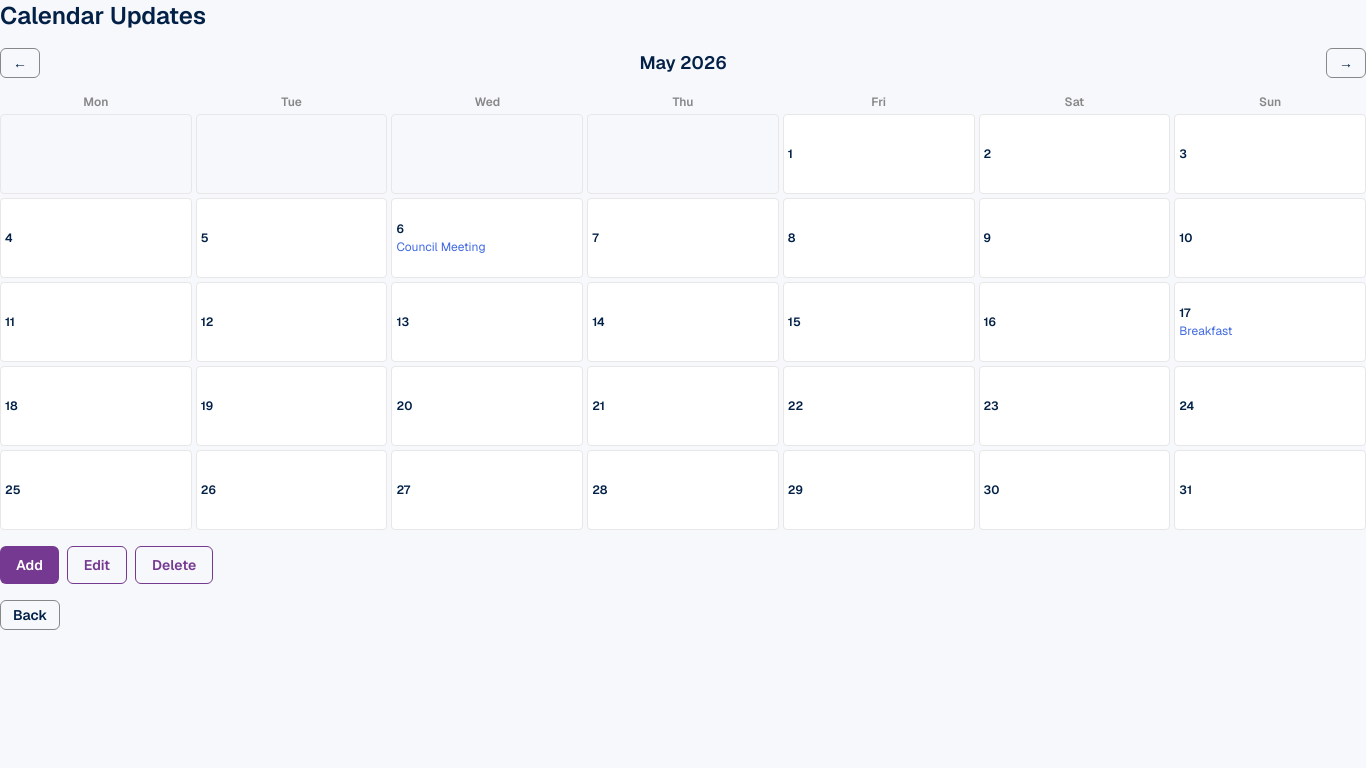
Test case: CalendarUpdates › uses fallback message when error has no message
The width and height of the screenshot is (1366, 768).
Check: the text "Council Meeting" is shown, box 396,239 -> 486,255
Click the button named "Select day 12": [292, 322] box 196,282 -> 387,362
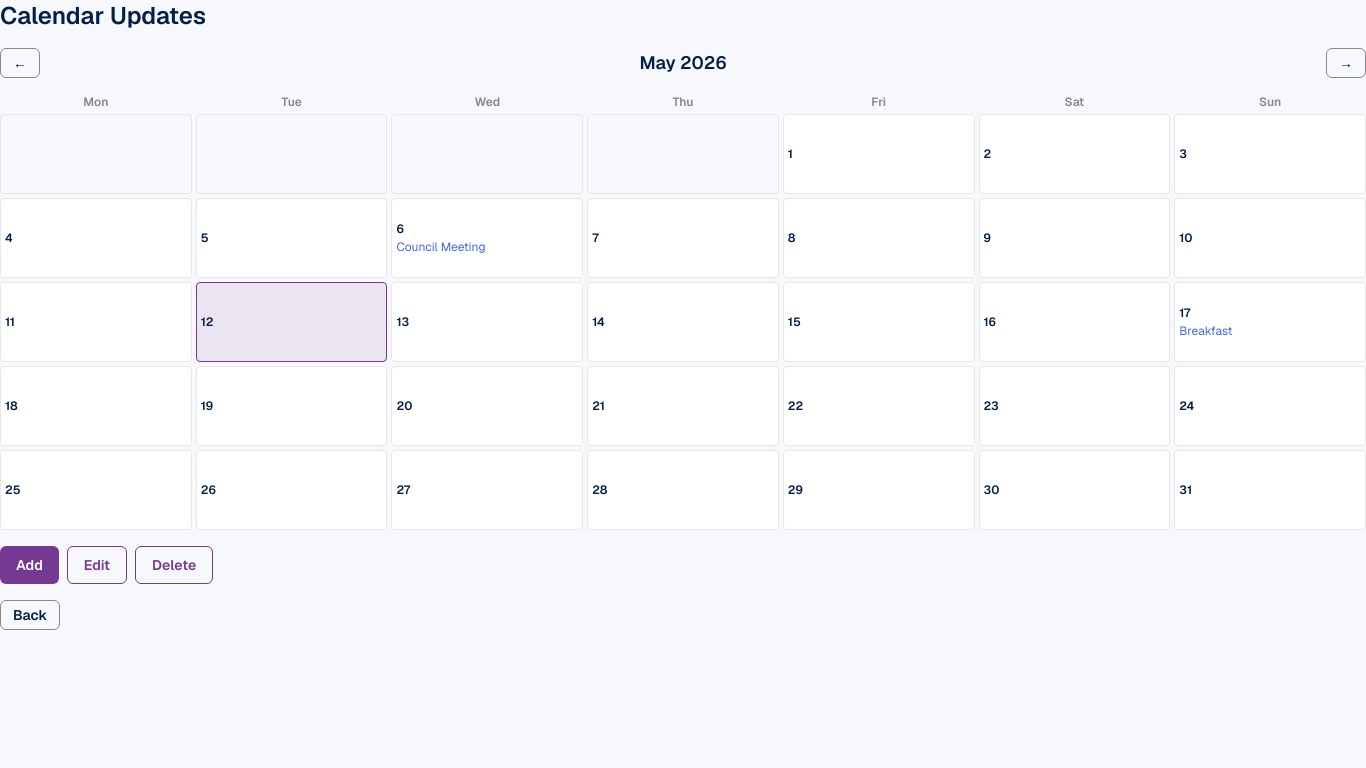
Click the button "Add": [29, 565] box 0,546 -> 59,584
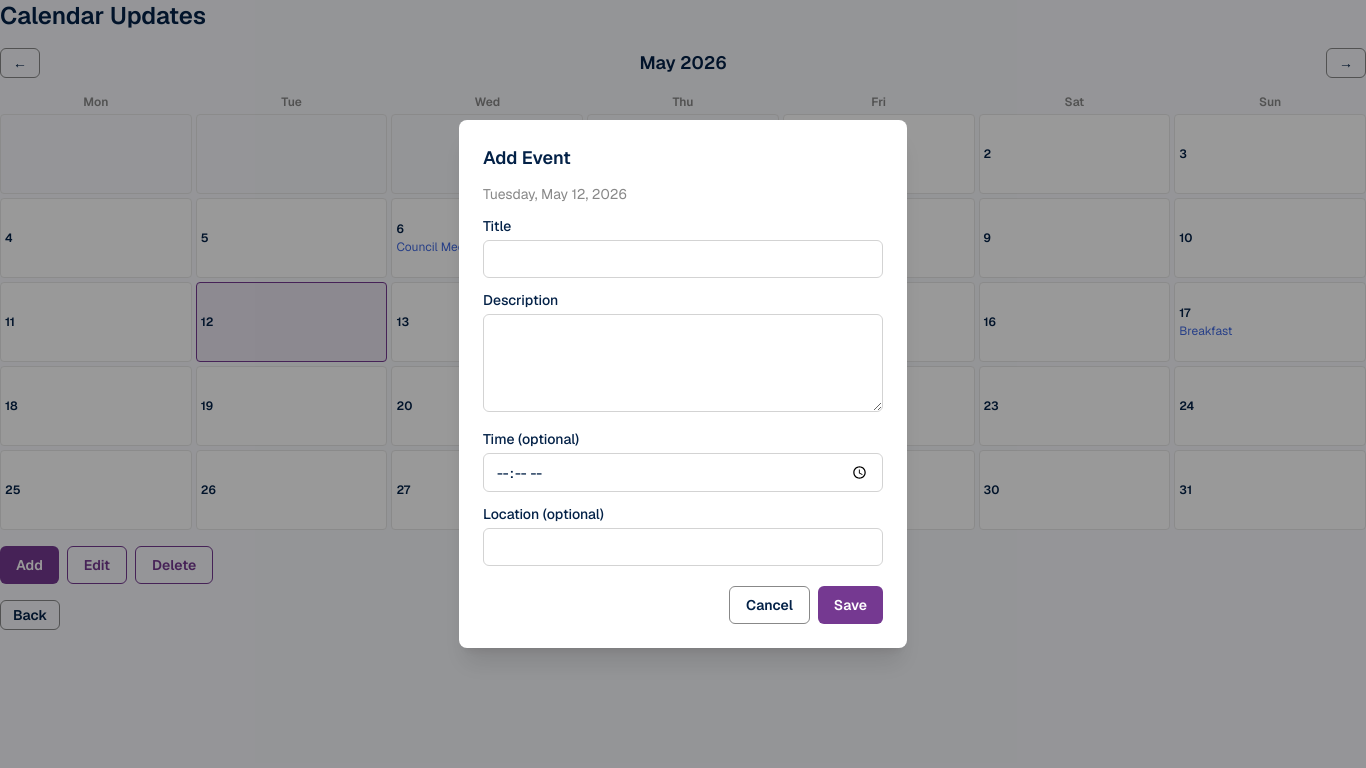
In the field labelled "Title": [683, 259] box 483,240 -> 883,278, type "X"
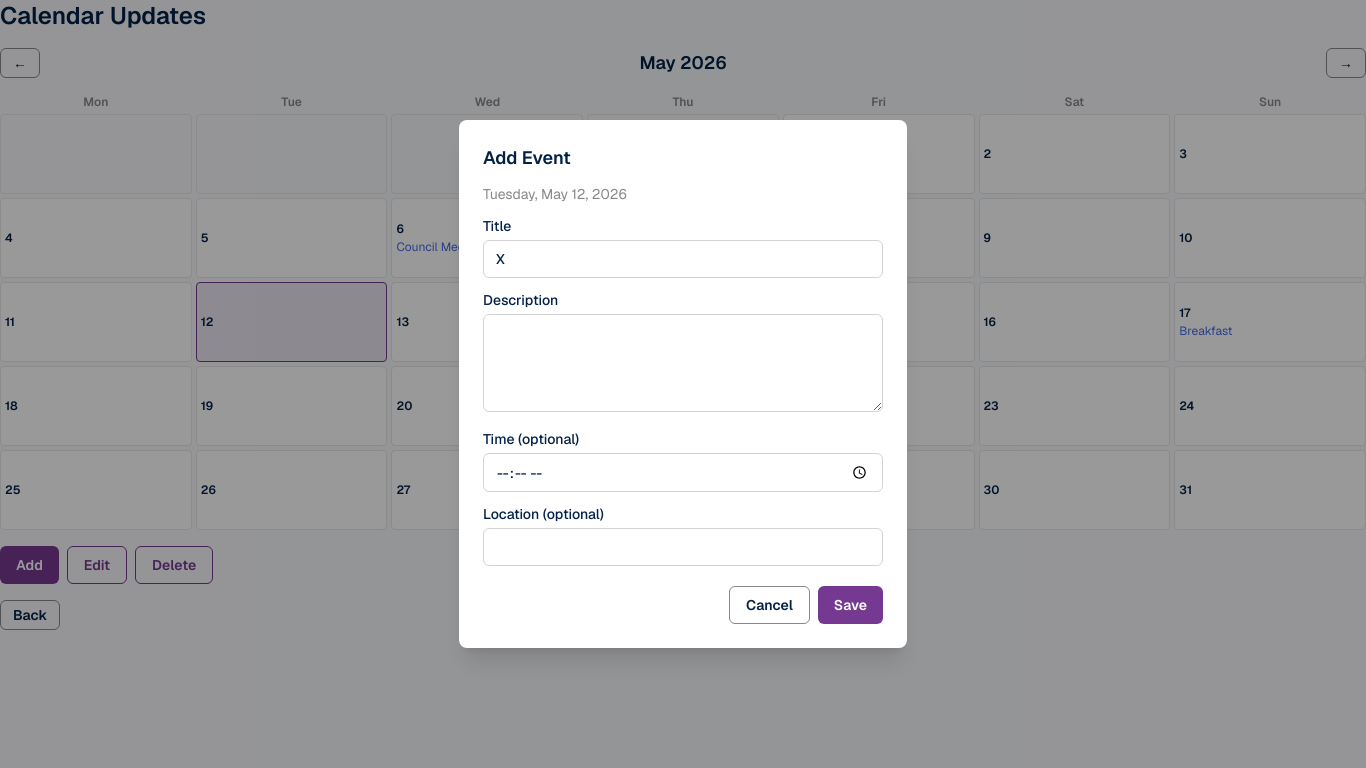
In the text box labelled "Description": [683, 363] box 483,314 -> 883,412, type "Y"
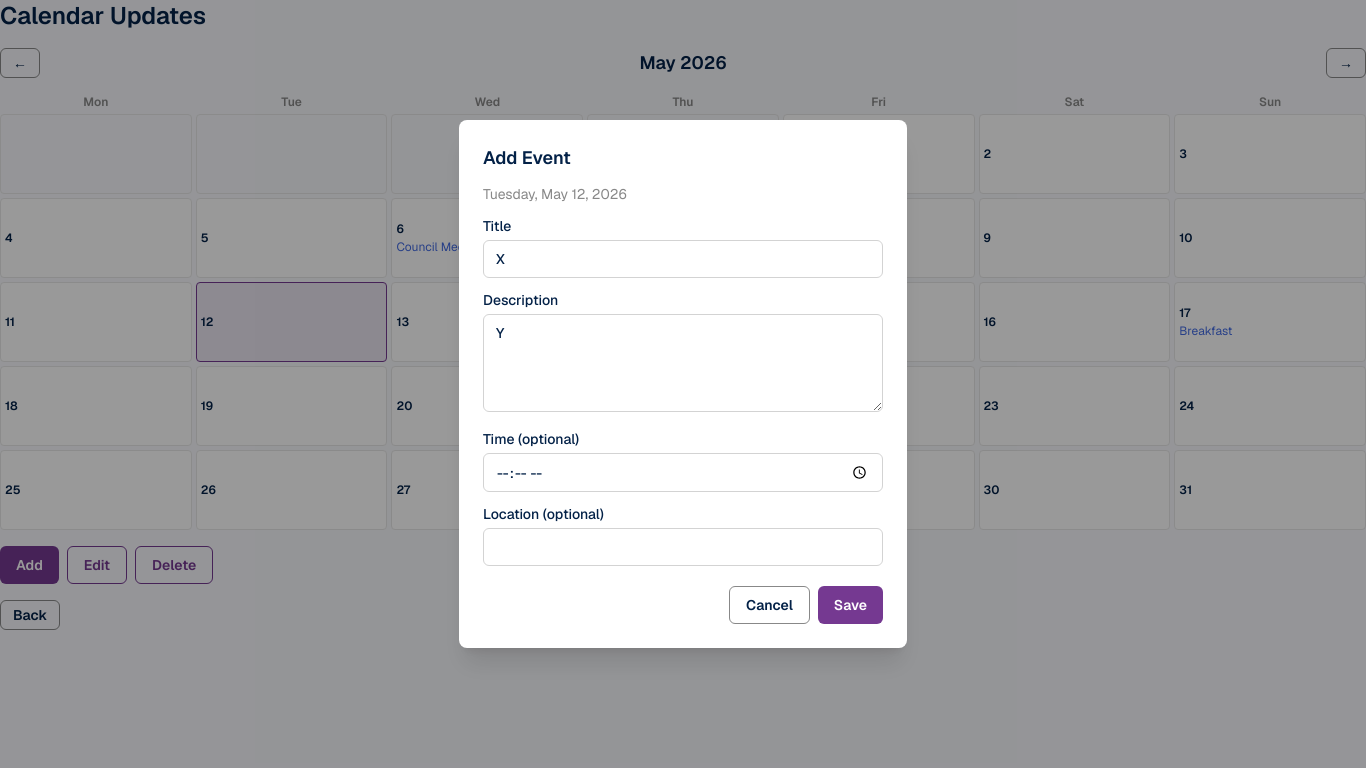
Click the button "Save": [850, 605] box 818,586 -> 883,624
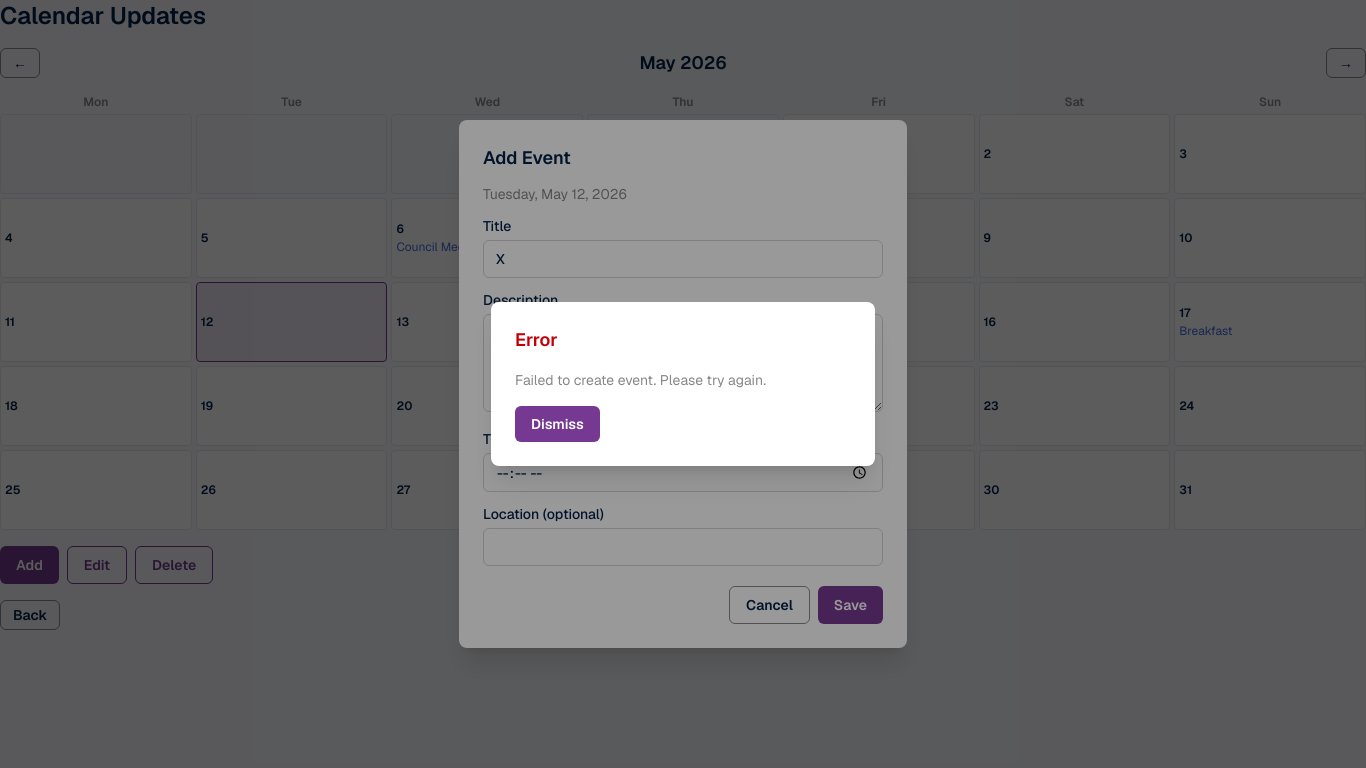
Check: the text "Failed to create event. Please try again." is shown, box 515,371 -> 766,389
